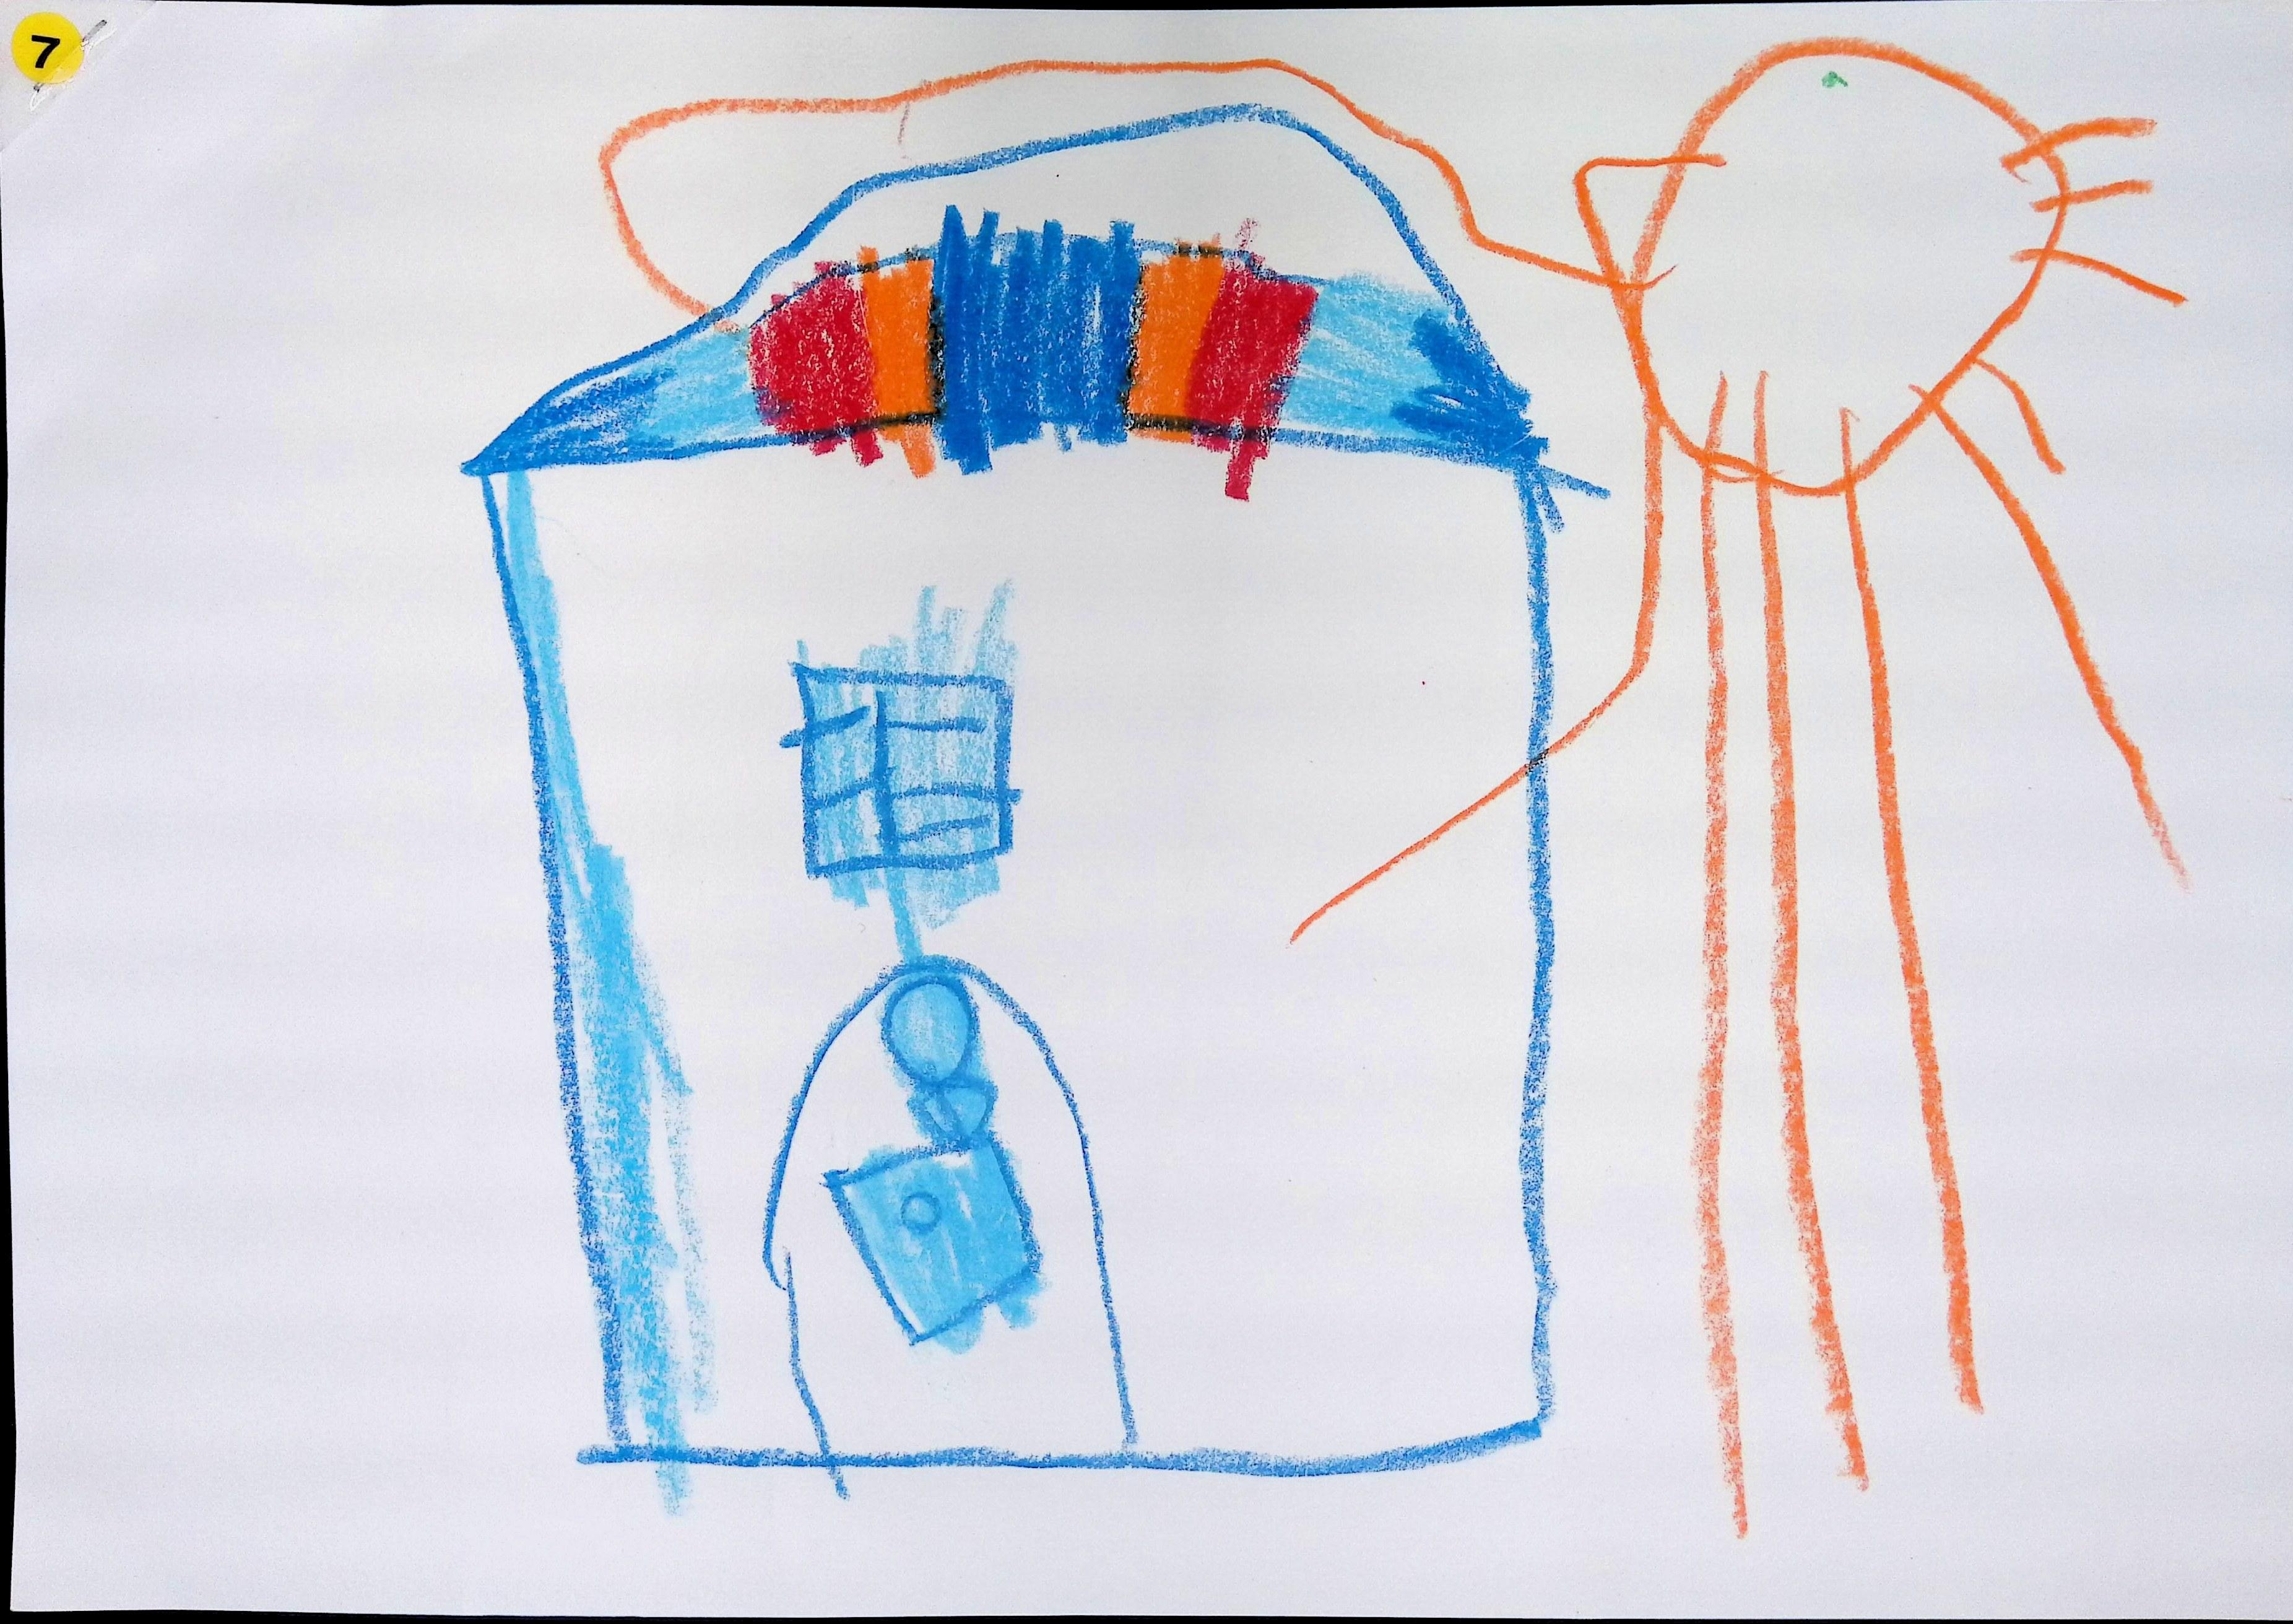door: (770, 958, 1142, 1469)
house: (455, 98, 1560, 1483)
roof: (448, 95, 1550, 476)
wall: (480, 425, 1557, 1473)
window: (796, 656, 1017, 882)
